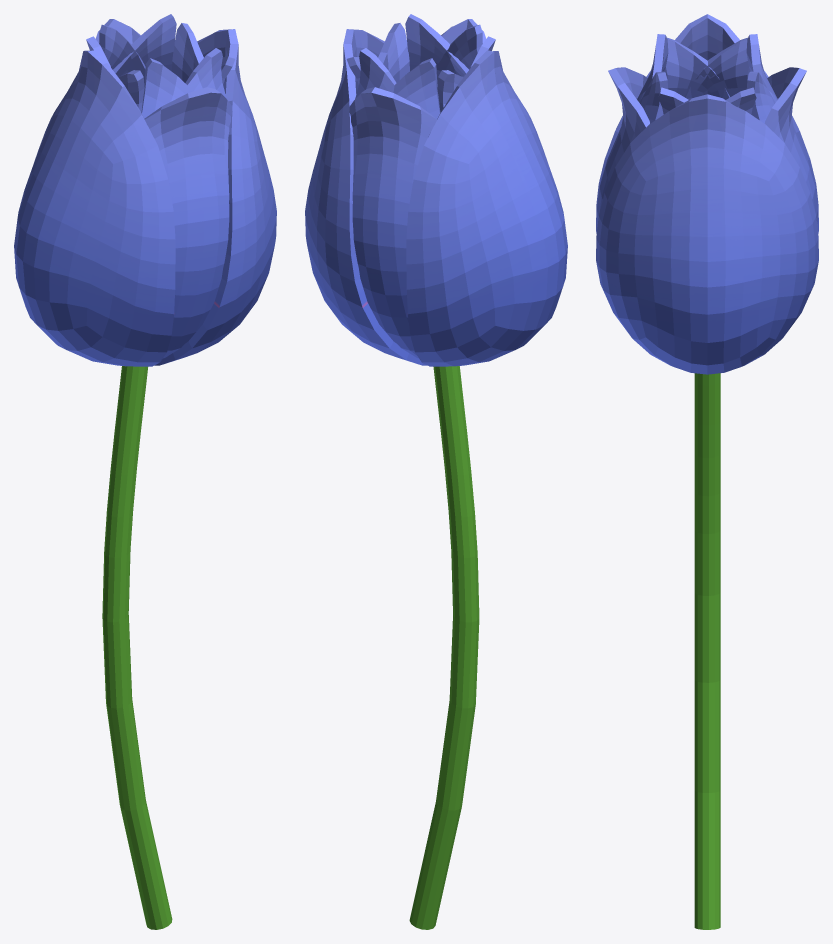
File: Tulip_Blue.fbx
The picture shows the model from 3 angles, left to right: view 1: azimuth 30°, elevation 25°; view 2: azimuth 150°, elevation 25°; view 3: azimuth 270°, elevation 25°; orthographic projection.
Visible parts, largest first — view 1: Roundcube.005, Cylinder, Roundcube.001, Roundcube.002, Roundcube.003; view 2: Roundcube.005, Cylinder, Roundcube.001, Roundcube.002, Roundcube.003; view 3: Roundcube.005, Cylinder, Roundcube.001, Roundcube.003, Roundcube.002.
Boxes of the visible parts, <box> form: Roundcube.005: <box>14,29,276,366</box>; Cylinder: <box>102,366,172,929</box>; Roundcube.001: <box>95,19,232,358</box>; Roundcube.002: <box>99,14,226,118</box>; Roundcube.003: <box>86,23,235,112</box>; Roundcube.005: <box>305,29,567,366</box>; Cylinder: <box>409,366,479,929</box>; Roundcube.001: <box>349,19,486,358</box>; Roundcube.002: <box>355,14,482,119</box>; Roundcube.003: <box>346,23,495,112</box>; Roundcube.005: <box>596,14,818,374</box>; Cylinder: <box>694,373,720,929</box>; Roundcube.001: <box>597,67,817,223</box>; Roundcube.003: <box>658,37,756,114</box>; Roundcube.002: <box>637,34,777,123</box>.
Size of the model in its own units: 97.06 by 337 by 77.21.
Materials: 1 (1 with a texture image).
